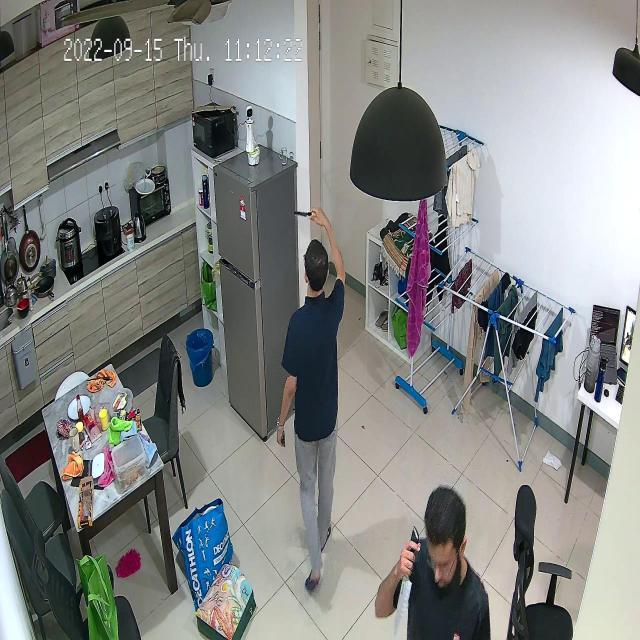Knife: (286, 200, 322, 231)
